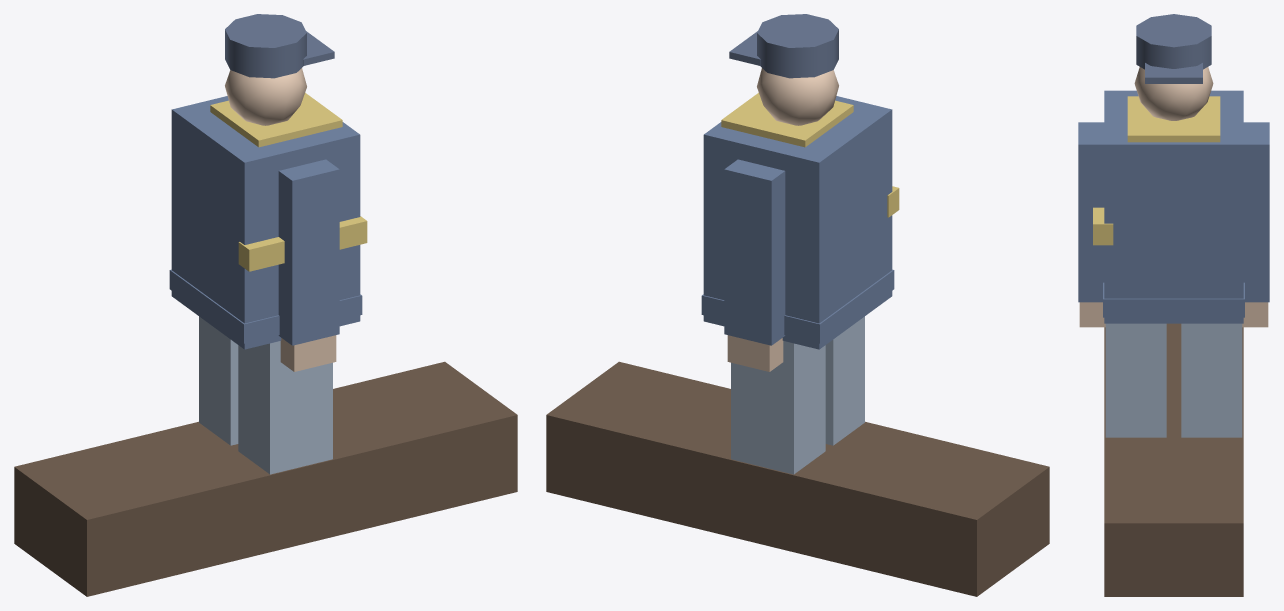
The model's file is foosball-figure-cavalry.glb.
3 views of the same model, side by side, from view 1: azimuth 30°, elevation 25°; view 2: azimuth 150°, elevation 25°; view 3: azimuth 270°, elevation 25° (orthographic). The views are drawn at different scales.
Parts seen in each view (by area): view 1: boot, coat, trouser, hat, accent, skin; view 2: boot, coat, trouser, hat, skin, accent; view 3: coat, boot, trouser, hat, skin, accent.
Boxes of the visible parts, x1,y1,x2,y2 form: boot: [14, 361, 517, 596]; coat: [169, 96, 362, 349]; trouser: [199, 316, 332, 474]; hat: [225, 14, 334, 78]; accent: [210, 92, 367, 271]; skin: [225, 68, 336, 371]; boot: [546, 361, 1049, 596]; coat: [701, 96, 894, 349]; trouser: [731, 316, 864, 474]; hat: [729, 14, 838, 78]; skin: [727, 68, 838, 371]; accent: [721, 92, 899, 217]; coat: [1078, 90, 1269, 323]; boot: [1104, 323, 1243, 596]; trouser: [1105, 323, 1242, 437]; hat: [1136, 14, 1211, 83]; skin: [1079, 67, 1268, 327]; accent: [1093, 96, 1220, 245].
Bounding box in the file's own units: 0.082 × 0.0885 × 0.033.
